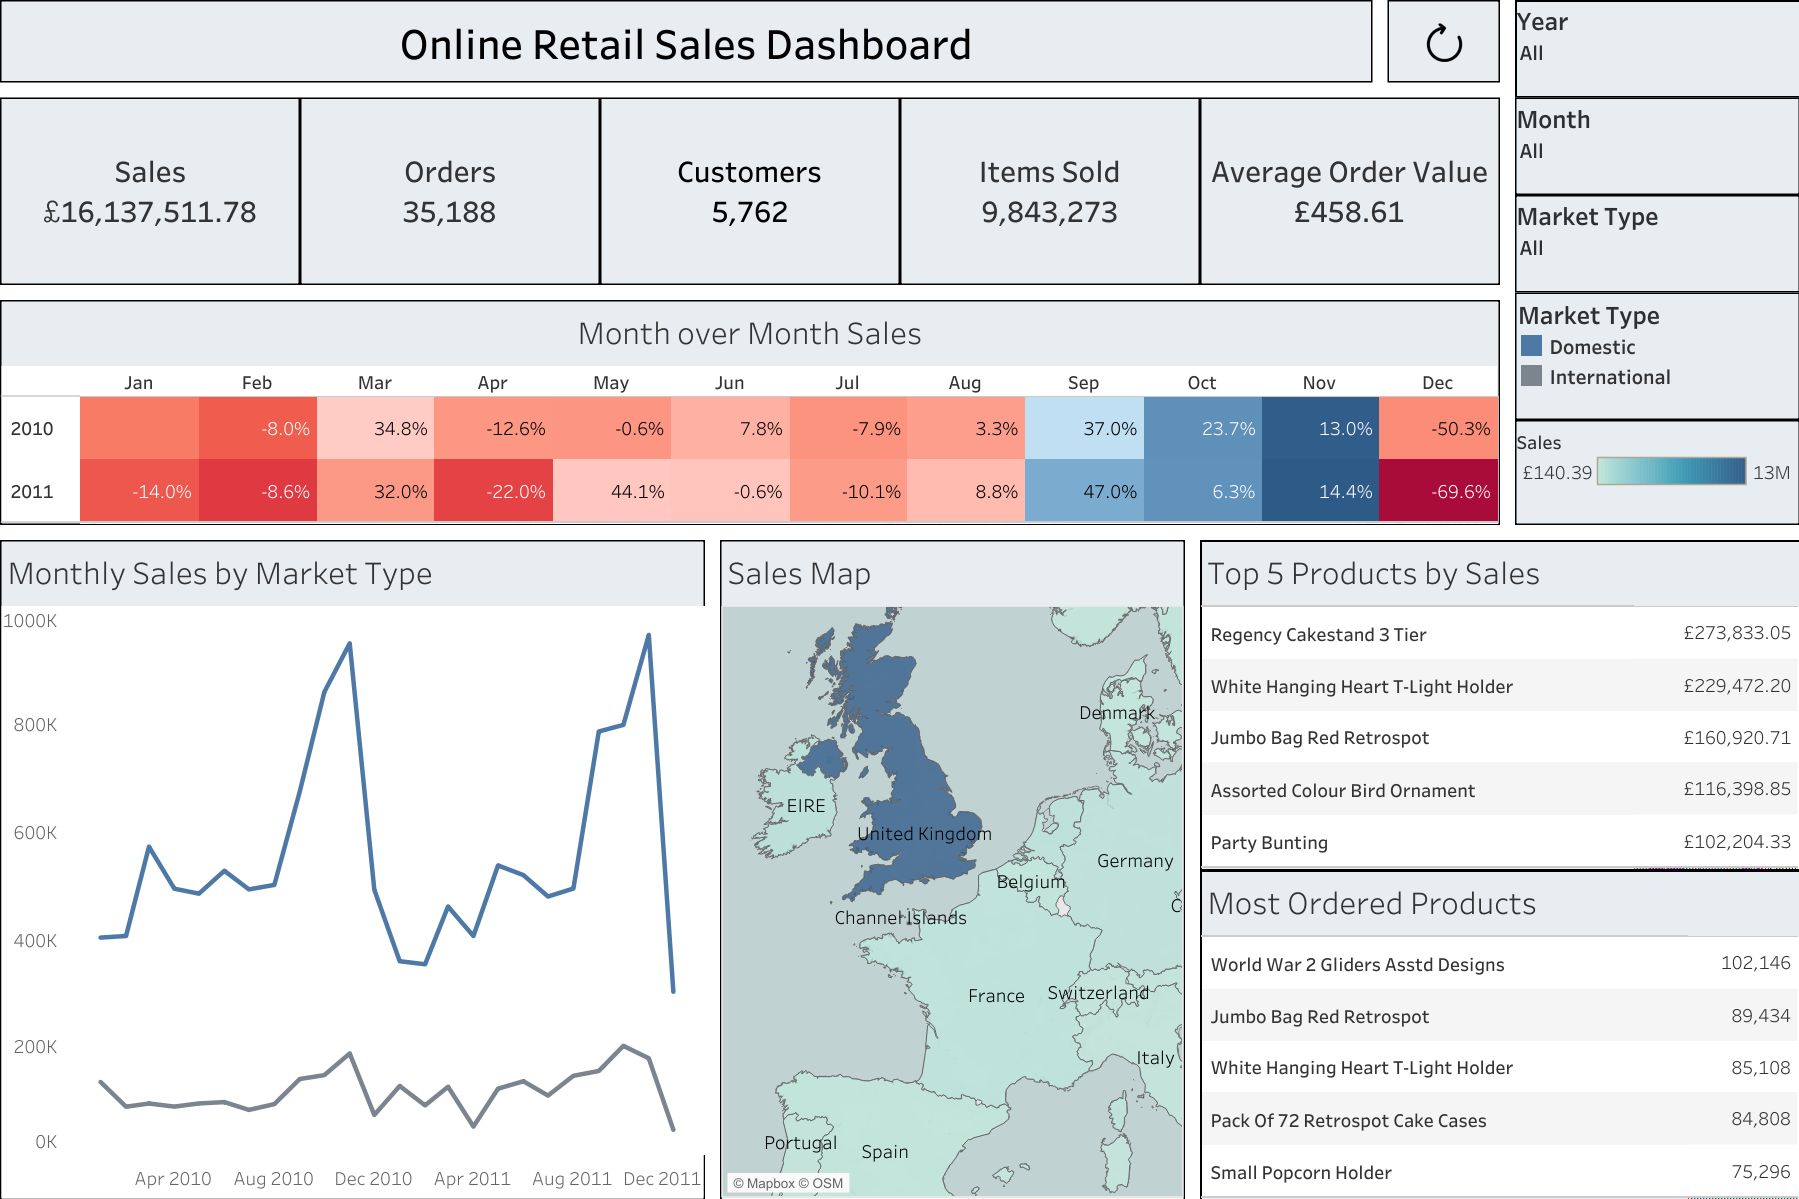

What the dashboard file says about the page in this screenshot:
{"tool":"tableau","page":{"name":"Online Retail Sales Dashboard","canvas":[1200,800],"ordinal":0},"visuals":[{"type":"text","box":[0,0,915,55]},{"type":"worksheet","title":"Reset button","mark":"Shape","box":[925,0,75,55]},{"type":"filter","title":"Monthly Domestic vs International Sales","param":"[federated.1iisqef1p4xa791eljurt0vfxgyk].[yr:InvoiceDate:ok]","box":[1010,0,190,65]},{"type":"worksheet","title":"Sales KPI","mark":"Automatic","box":[0,65,200,125]},{"type":"worksheet","title":"Orders KPI","mark":"Automatic","box":[200,65,200,125]},{"type":"worksheet","title":"Customers KPI","mark":"Automatic","box":[400,65,200,125]},{"type":"worksheet","title":"Items Sold KPI","mark":"Automatic","box":[600,65,200,125]},{"type":"worksheet","title":"Avg. Order Value KPI","mark":"Automatic","box":[800,65,200,125]},{"type":"filter","title":"Monthly Domestic vs International Sales","param":"[federated.1iisqef1p4xa791eljurt0vfxgyk].[mn:InvoiceDate:ok]","box":[1010,65,190,65]},{"type":"filter","title":"Monthly Domestic vs International Sales","param":"[federated.1iisqef1p4xa791eljurt0vfxgyk].[none:Calculation_1256248223649793:nk]","box":[1010,130,190,65]},{"type":"legend","title":"Monthly Domestic vs International Sales","param":"[federated.1iisqef1p4xa791eljurt0vfxgyk].[io:Domestic:nk]","box":[1010,195,190,85]},{"type":"worksheet","title":"MoM Sales","mark":"Square","rows":["InvoiceDate"],"cols":["InvoiceDate"],"box":[0,200,1000,150]},{"type":"legend","title":"Sales Map","param":"[federated.1iisqef1p4xa791eljurt0vfxgyk].[sum:Sales:qk]","box":[1010,280,190,70]},{"type":"worksheet","title":"Monthly Domestic vs International Sales","mark":"Automatic","rows":["Sales"],"cols":["InvoiceDate"],"box":[0,360,470,440]},{"type":"worksheet","title":"Sales Map","mark":"Multipolygon","box":[480,360,310,440]},{"type":"worksheet","title":"Top 5 Products by Sales Crosstab","mark":"Automatic","rows":["Description"],"box":[800,360,400,220]},{"type":"worksheet","title":"Most Ordered Products Crosstab","mark":"Automatic","rows":["Description"],"box":[800,580,400,220]}]}

Visuals, with their boxes in screenshot pixels (x1, y1, x2, y2), scaled from the page's 1200x800 canvas onto the 1799x1199 screenshot:
text: x1=0, y1=0, x2=1372, y2=82
"Reset button" worksheet (Shape marks): x1=1387, y1=0, x2=1499, y2=82
"Monthly Domestic vs International Sales" filter: x1=1514, y1=0, x2=1798, y2=97
"Sales KPI" worksheet: x1=0, y1=97, x2=300, y2=285
"Orders KPI" worksheet: x1=300, y1=97, x2=600, y2=285
"Customers KPI" worksheet: x1=600, y1=97, x2=900, y2=285
"Items Sold KPI" worksheet: x1=900, y1=97, x2=1199, y2=285
"Avg. Order Value KPI" worksheet: x1=1199, y1=97, x2=1499, y2=285
"Monthly Domestic vs International Sales" filter: x1=1514, y1=97, x2=1798, y2=195
"Monthly Domestic vs International Sales" filter: x1=1514, y1=195, x2=1798, y2=292
"Monthly Domestic vs International Sales" legend: x1=1514, y1=292, x2=1798, y2=420
"MoM Sales" worksheet (Square marks): x1=0, y1=300, x2=1499, y2=525
"Sales Map" legend: x1=1514, y1=420, x2=1798, y2=525
"Monthly Domestic vs International Sales" worksheet: x1=0, y1=540, x2=705, y2=1198
"Sales Map" worksheet (Multipolygon marks): x1=720, y1=540, x2=1184, y2=1198
"Top 5 Products by Sales Crosstab" worksheet: x1=1199, y1=540, x2=1798, y2=869
"Most Ordered Products Crosstab" worksheet: x1=1199, y1=869, x2=1798, y2=1198
